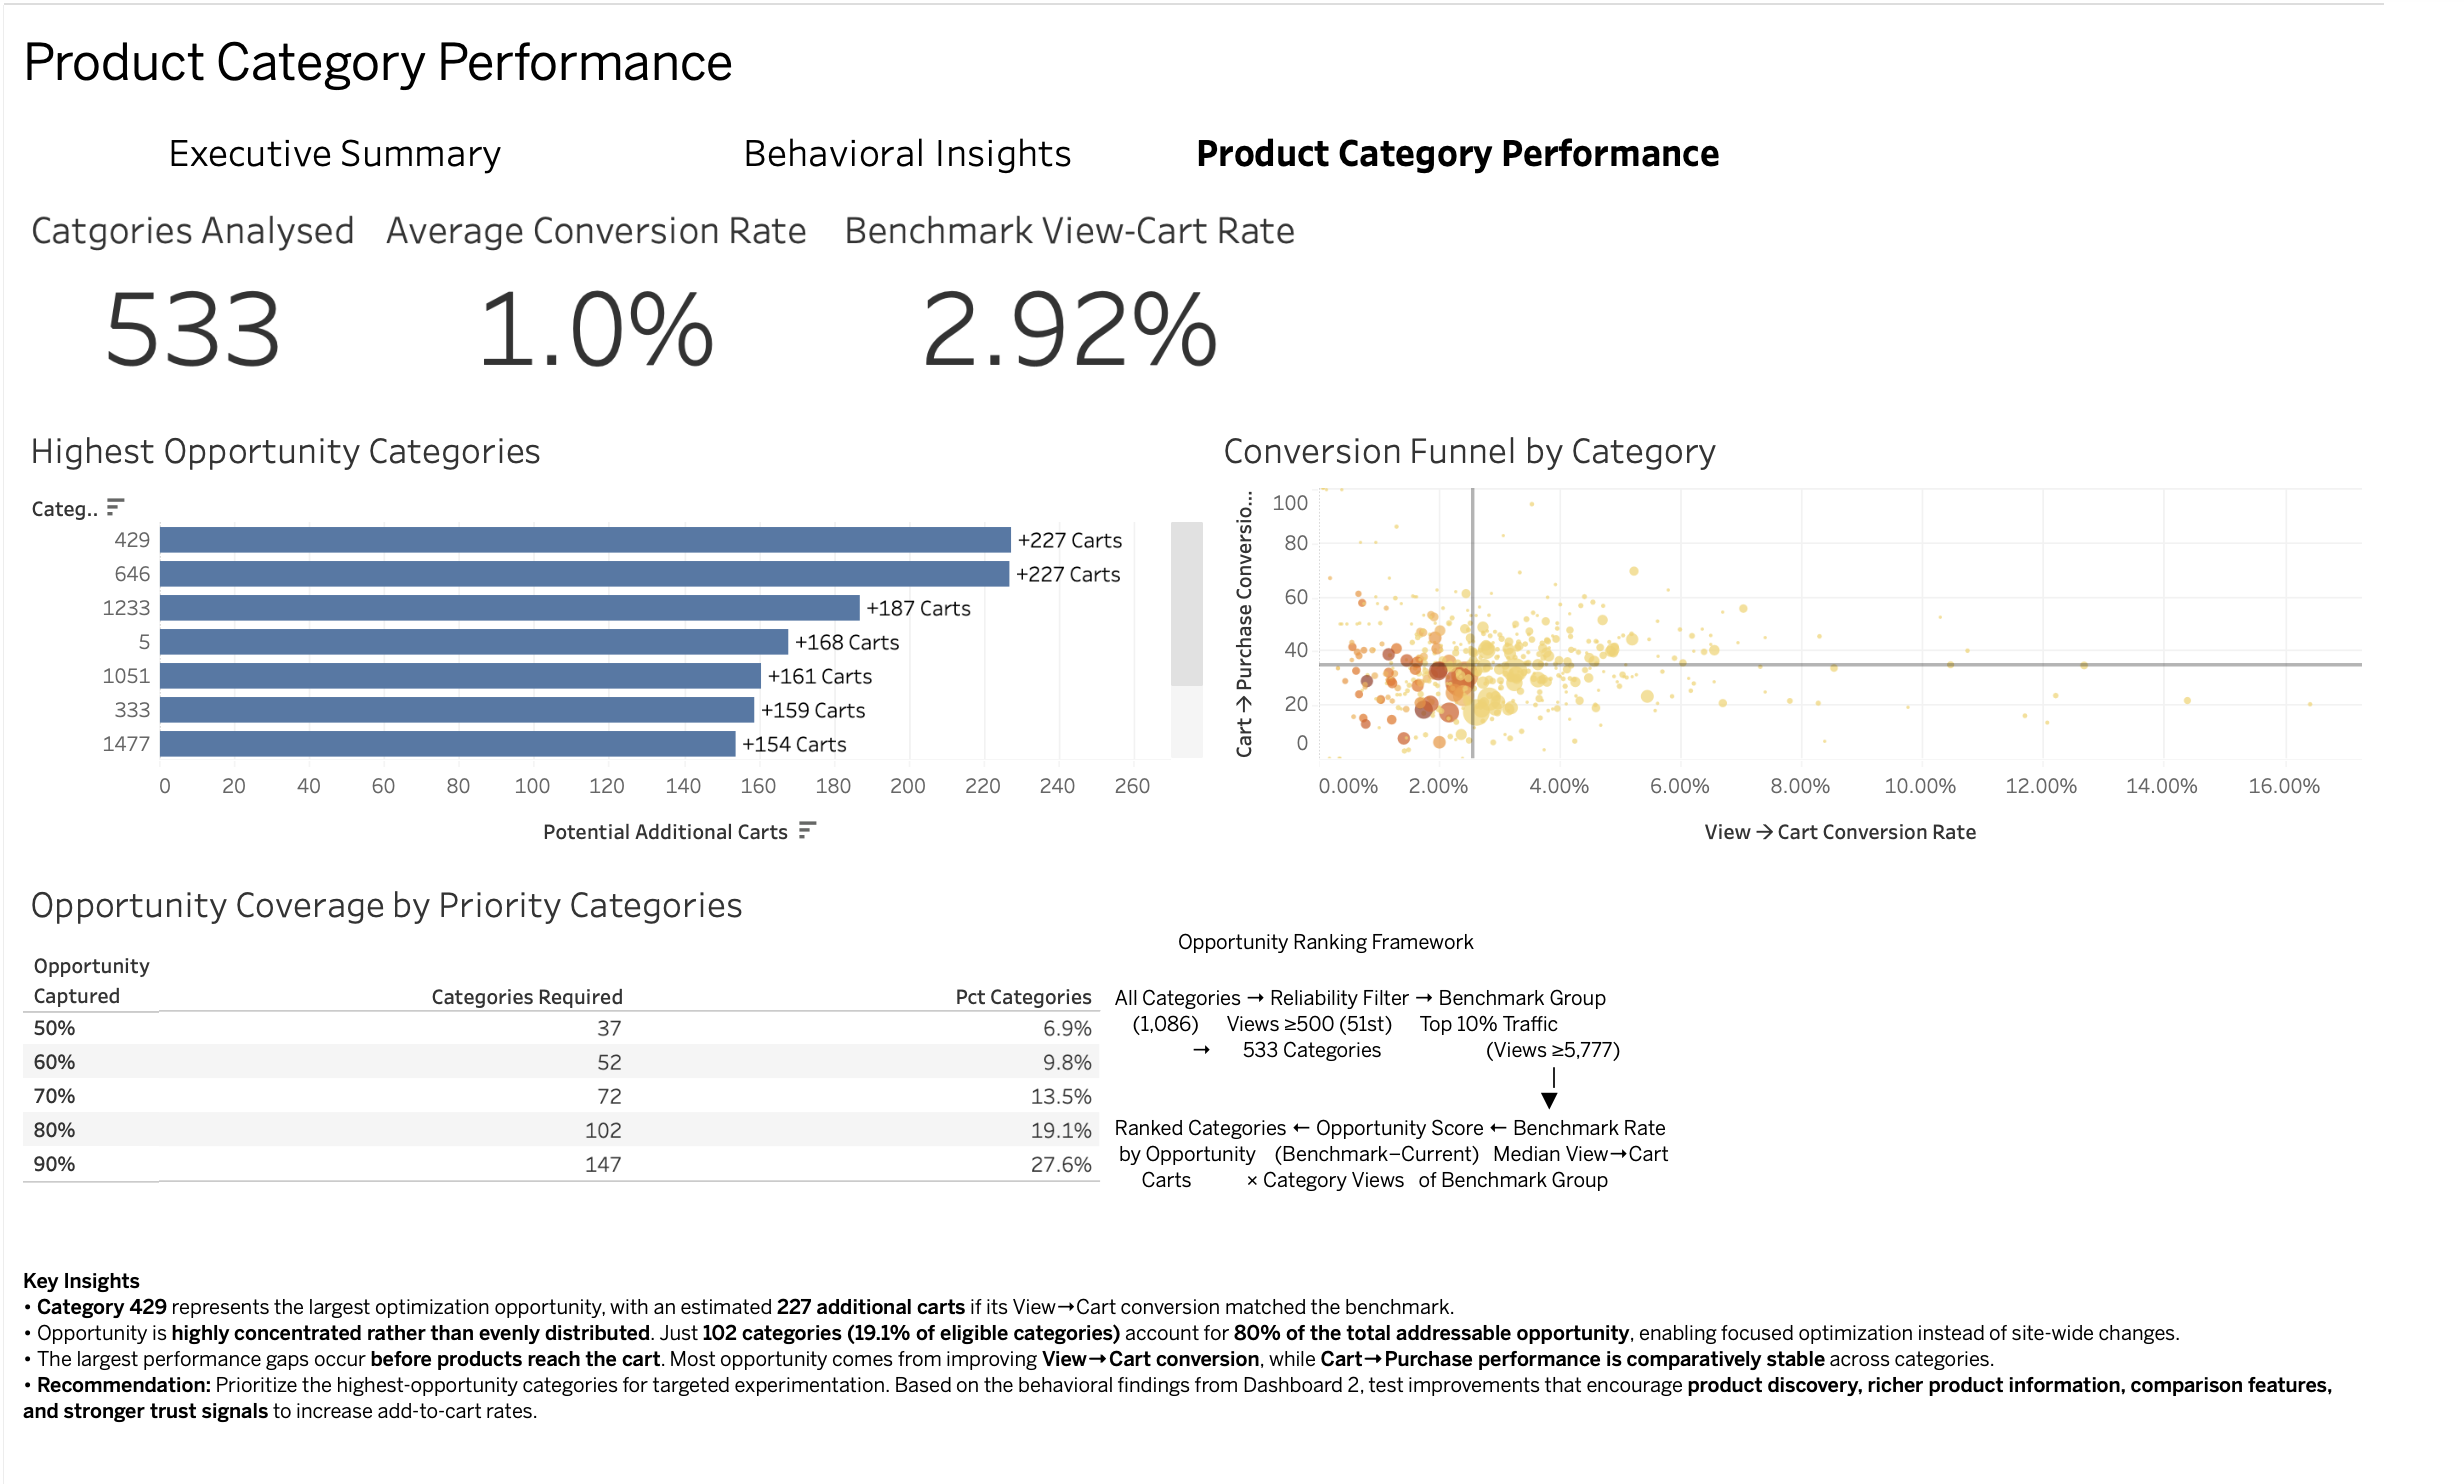

What the dashboard file says about the page in this screenshot:
{"tool":"tableau","page":{"name":"Product Category Performance","canvas":[1400,900],"ordinal":2},"visuals":[{"type":"text","box":[8,8,1384,52]},{"type":"dashboard-object","box":[8,60,375,53]},{"type":"dashboard-object","box":[383,60,299,53]},{"type":"dashboard-object","box":[682,60,348,53]},{"type":"worksheet","title":"Cat analysed","mark":"Automatic","box":[8,113,208,125]},{"type":"worksheet","title":"Conversion Rate","mark":"Automatic","box":[216,113,268,125]},{"type":"worksheet","title":"Conversion Rate (2)","mark":"Automatic","box":[484,113,288,125]},{"type":"worksheet","title":"Highest Opportunity Categories","mark":"Automatic","rows":["category_id"],"cols":["opportunity_carts"],"box":[8,238,702.5,267]},{"type":"worksheet","title":"Conversion Funnel by Category","mark":"Circle","rows":["cart_to_purchase_rate"],"cols":["view_to_cart_rate"],"box":[710.5,238,681.5,267]},{"type":"worksheet","title":"Opportunity Coverage by Priority Categories","mark":"Automatic","rows":["Calculation_4586712980172804"],"box":[8,505,642,234]},{"type":"text","box":[650,505,742,234]},{"type":"text","box":[8,739,1384,103]}]}

Visuals, with their boxes on the page's 1400x900 design canvas (x1, y1, x2, y2). These are canvas units, not pixel positions in the 2464x1484 screenshot, which may show the page scaled, cropped or inside an application window:
text: detection(8, 8, 1392, 60)
dashboard-object: detection(8, 60, 383, 113)
dashboard-object: detection(383, 60, 682, 113)
dashboard-object: detection(682, 60, 1030, 113)
"Cat analysed" worksheet: detection(8, 113, 216, 238)
"Conversion Rate" worksheet: detection(216, 113, 484, 238)
"Conversion Rate (2)" worksheet: detection(484, 113, 772, 238)
"Highest Opportunity Categories" worksheet: detection(8, 238, 710, 505)
"Conversion Funnel by Category" worksheet (Circle marks): detection(710, 238, 1392, 505)
"Opportunity Coverage by Priority Categories" worksheet: detection(8, 505, 650, 739)
text: detection(650, 505, 1392, 739)
text: detection(8, 739, 1392, 842)
